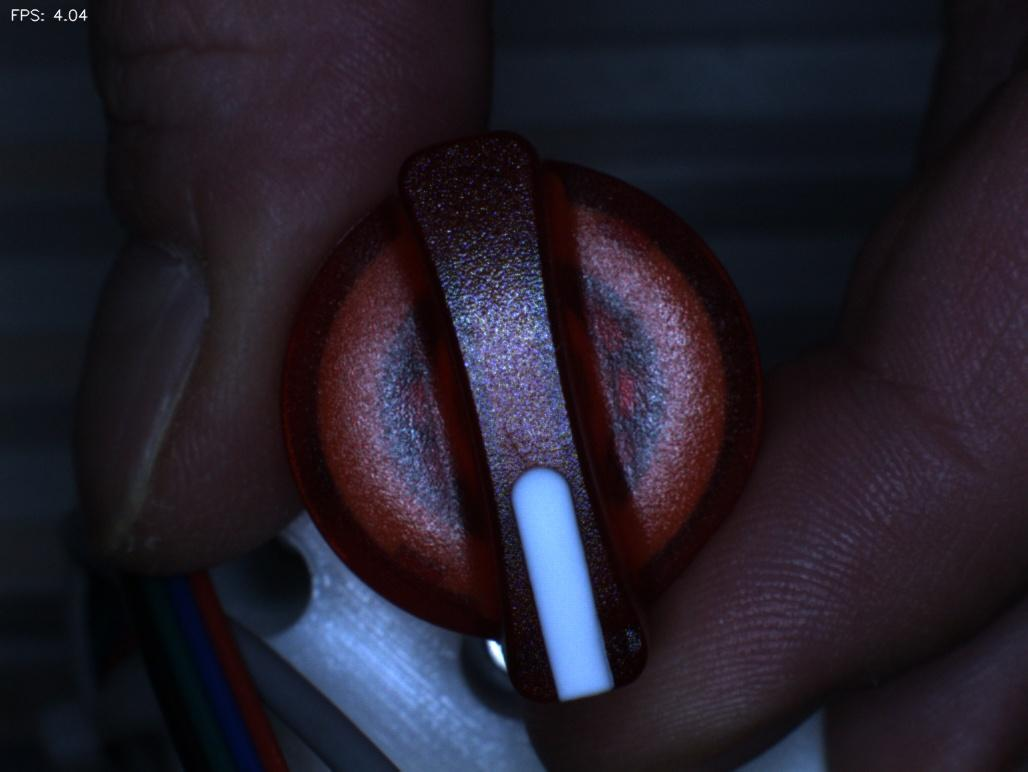Choc: (604, 593, 677, 685)
